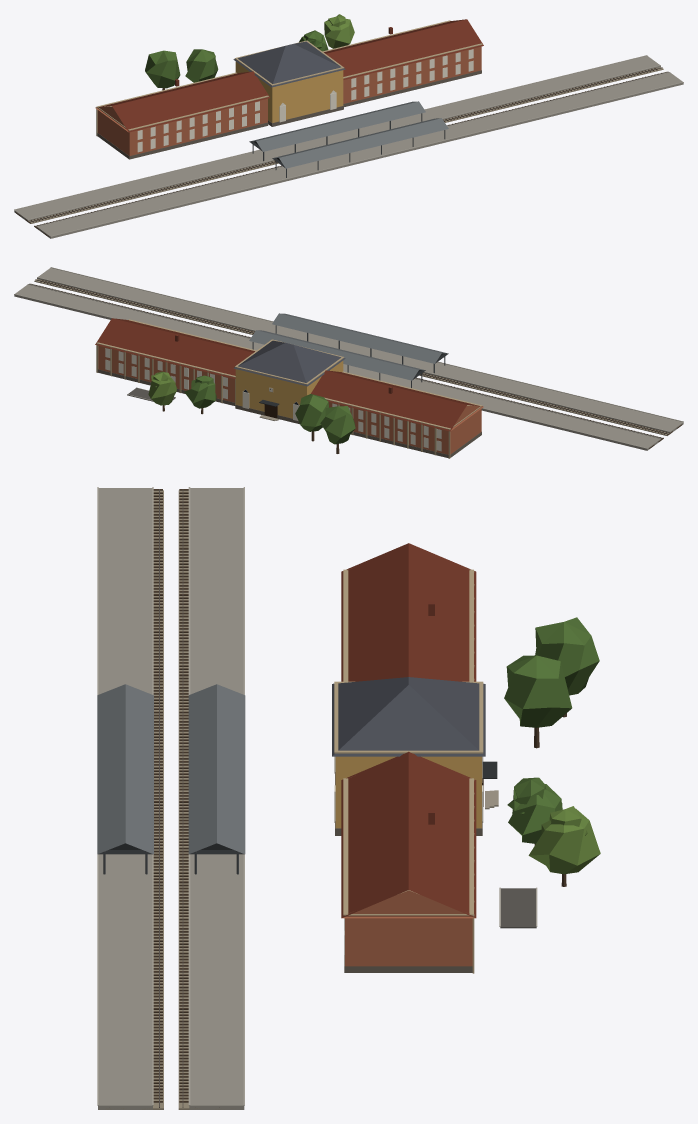
The model's file is Dworzec.fbx.
The picture shows the model from 3 angles, top to bottom: view 1: azimuth 30°, elevation 25°; view 2: azimuth 150°, elevation 25°; view 3: azimuth 270°, elevation 25°; orthographic projection. The views are drawn at different scales.
Visible parts, largest first — view 1: Dworzec, Dworzec_Peron_2, Dworzec_Peron_1, Dworzec_Tory, Dworzec_Wiata_1, Dworzec_Wiata_2, Drzewo_Dworzec_3, Drzewo_Dworzec_1, Drzewo_Dworzec_4; view 2: Dworzec, Dworzec_Peron_2, Dworzec_Peron_1, Dworzec_Tory, Dworzec_Wiata_2, Dworzec_Wiata_1, Drzewo_Dworzec_3, Drzewo_Dworzec_1, Drzewo_Dworzec_2, Drzewo_Dworzec_4; view 3: Dworzec, Dworzec_Peron_2, Dworzec_Peron_1, Dworzec_Tory, Dworzec_Wiata_1, Dworzec_Wiata_2, Drzewo_Dworzec_1, Drzewo_Dworzec_4, Drzewo_Dworzec_3, Drzewo_Dworzec_2, Dworzec_Postoj_Dorozek.
Part boxes in pixels (x1,y1,x2,y2): Dworzec: (95,19,483,159); Dworzec_Peron_2: (37,72,683,238); Dworzec_Peron_1: (14,55,660,220); Dworzec_Tory: (16,67,668,236); Dworzec_Wiata_1: (249,101,425,161); Dworzec_Wiata_2: (272,118,448,177); Drzewo_Dworzec_3: (145,50,180,90); Drzewo_Dworzec_1: (185,49,218,82); Drzewo_Dworzec_4: (324,14,354,48); Dworzec: (95,318,483,458); Dworzec_Peron_2: (37,267,683,432); Dworzec_Peron_1: (14,284,660,450); Dworzec_Tory: (29,279,681,449); Dworzec_Wiata_2: (272,313,448,373); Dworzec_Wiata_1: (249,330,425,387); Drzewo_Dworzec_3: (320,406,355,453); Drzewo_Dworzec_1: (295,394,328,441); Drzewo_Dworzec_2: (184,375,216,414); Drzewo_Dworzec_4: (148,371,176,411); Dworzec: (332,543,498,973); Dworzec_Peron_2: (97,487,153,1109); Dworzec_Peron_1: (188,487,244,1109); Dworzec_Tory: (105,489,235,1109); Dworzec_Wiata_1: (188,684,245,874); Dworzec_Wiata_2: (97,684,153,874); Drzewo_Dworzec_1: (504,655,572,748); Drzewo_Dworzec_4: (528,806,600,886); Drzewo_Dworzec_3: (535,617,599,717); Drzewo_Dworzec_2: (507,777,562,845); Dworzec_Postoj_Dorozek: (499,887,537,928).
Bounding box in the file's own units: 160 × 14.5 × 55.11.
